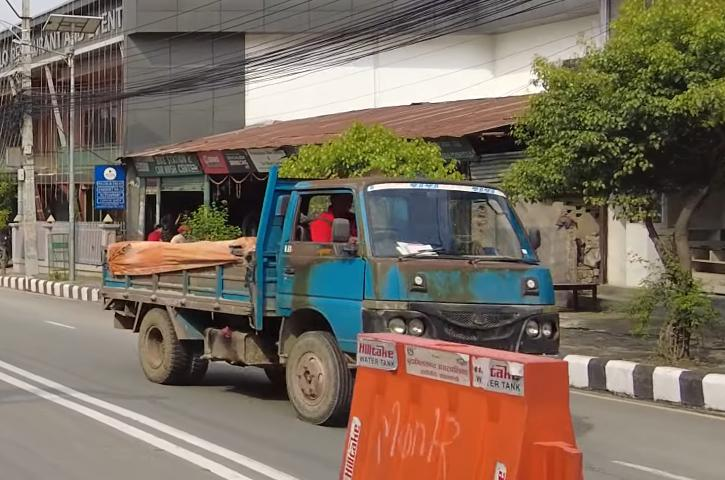mini_truck: (96, 166, 567, 424)
